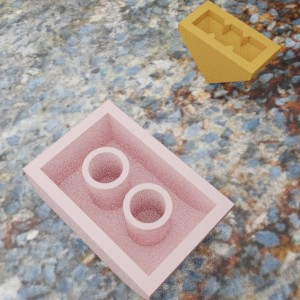lego: (22, 99, 234, 300), (177, 0, 281, 83)
